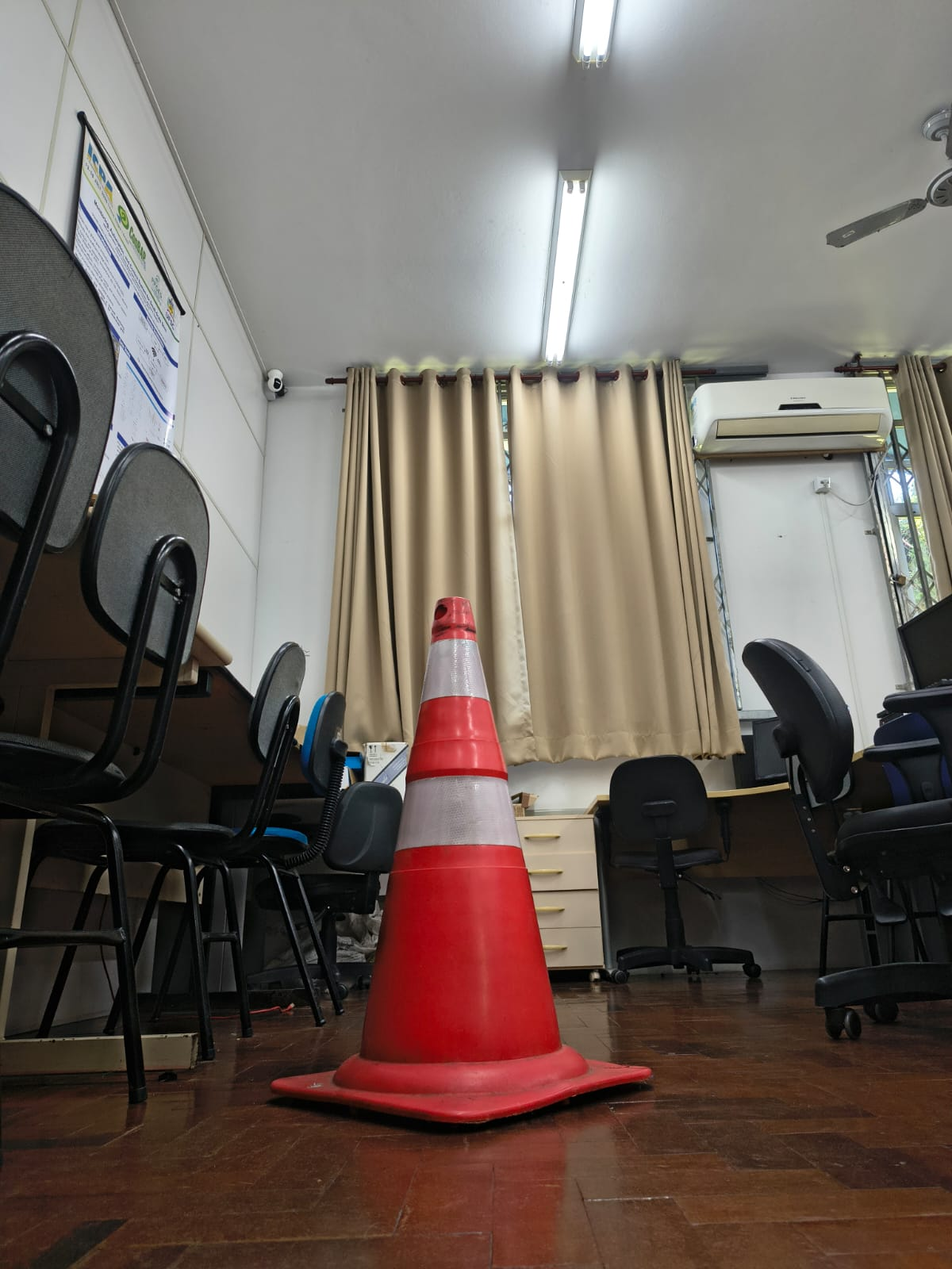cone: (291, 595, 656, 1134)
